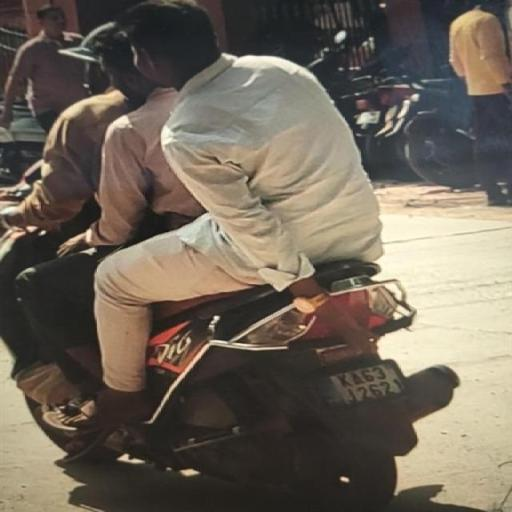tripple riding: (0, 0, 398, 303)
